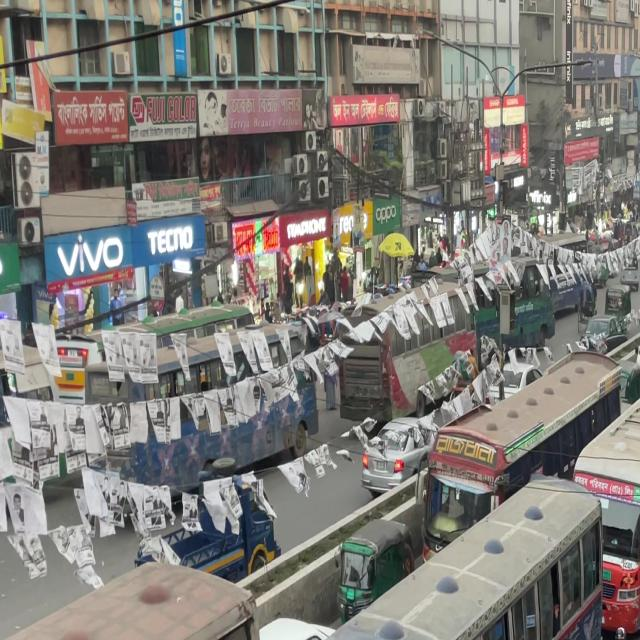bus: (281, 467, 614, 640), (429, 353, 630, 545), (0, 554, 268, 640), (570, 370, 640, 637)
car: (361, 417, 442, 497)
